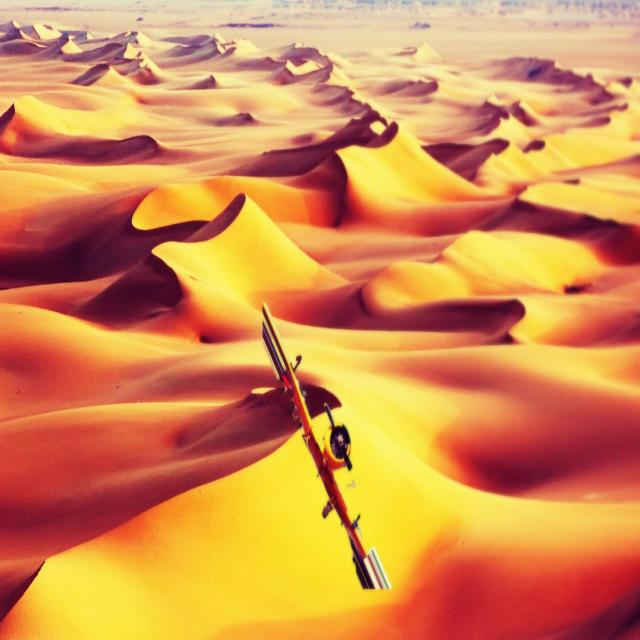airplane: (260, 301, 392, 591)
